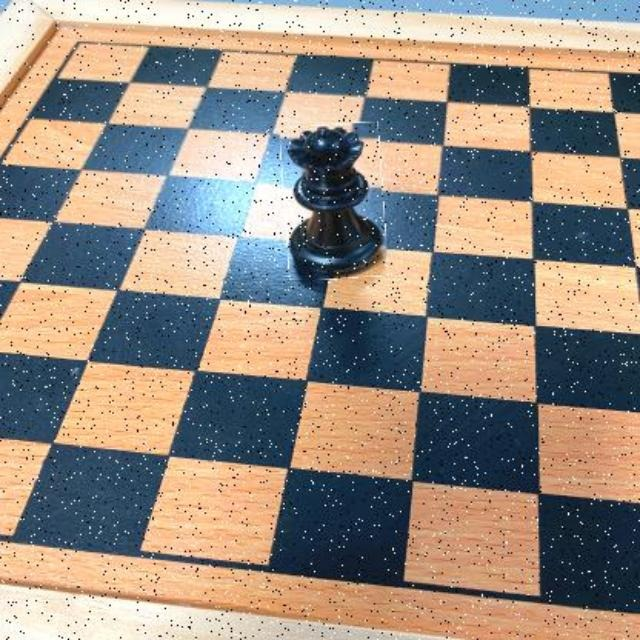black-queen: (282, 124, 385, 280)
